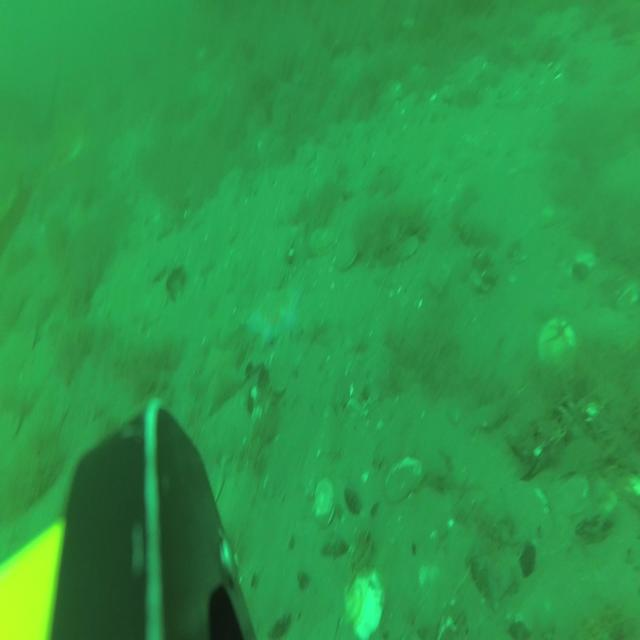scallop: (344, 562, 385, 638), (538, 315, 574, 371), (383, 455, 422, 501), (313, 479, 334, 527), (337, 231, 360, 272), (310, 224, 332, 257)
starfish: (194, 343, 248, 414), (247, 287, 297, 342)
